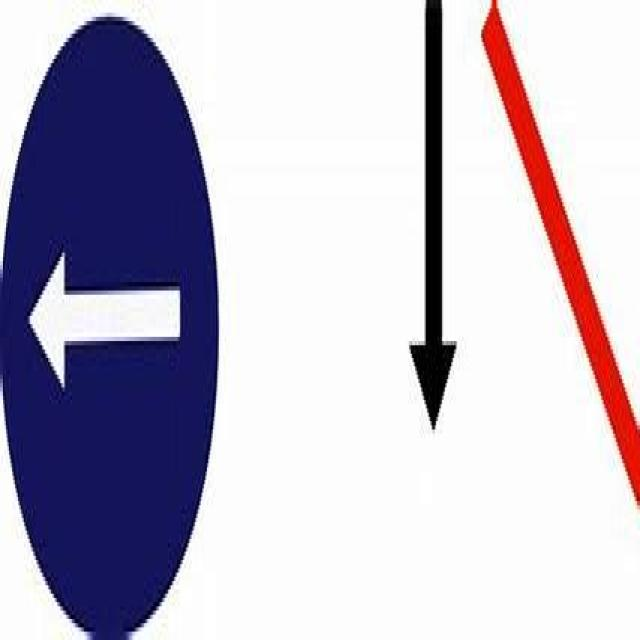compulsory_sound_horn: (0, 0, 219, 636)
